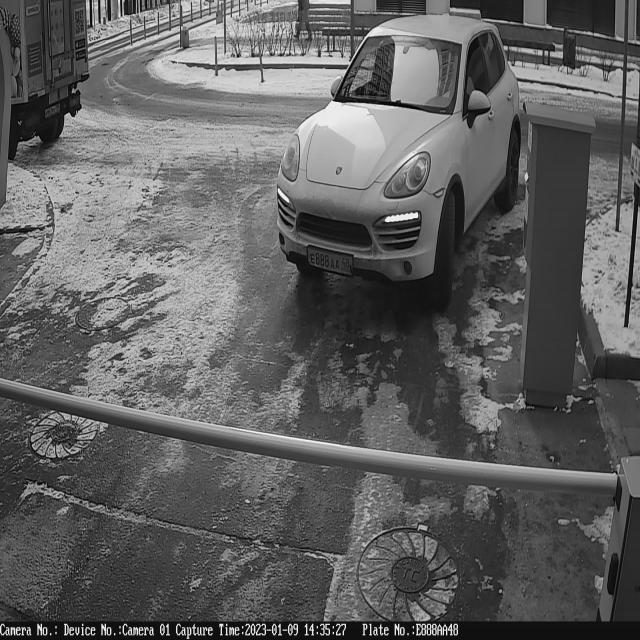car-plate-numbers: (305, 243, 357, 281)
